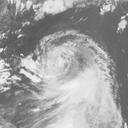cyclone: (32, 30, 118, 111)
